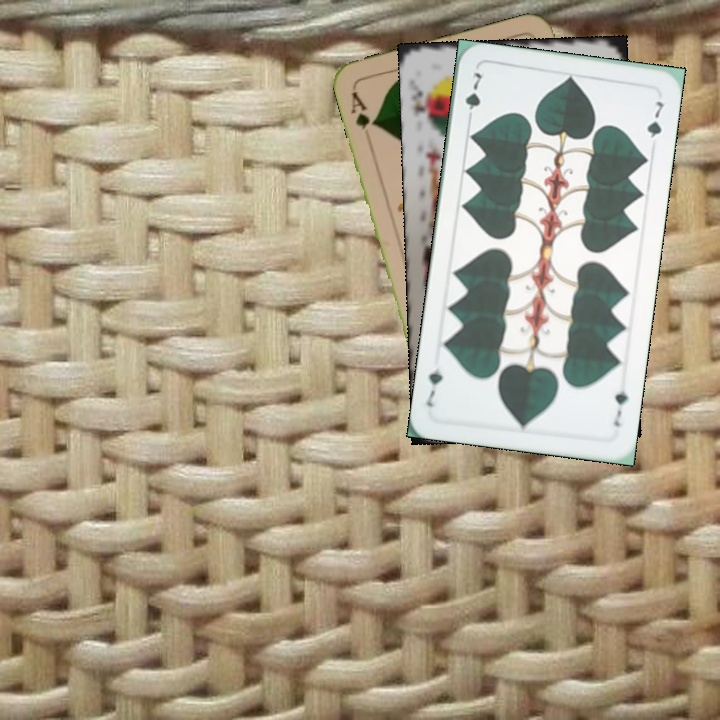G7: (461, 68, 484, 125), (609, 386, 631, 429)
GA: (346, 87, 378, 131)
SK: (407, 78, 429, 118)
